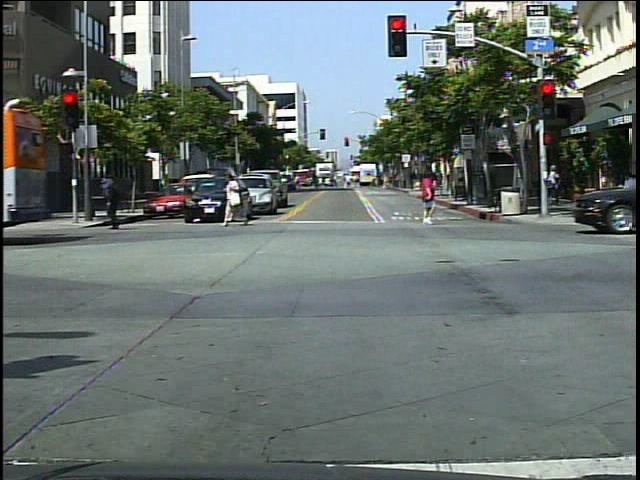person: (221, 166, 252, 230), (413, 166, 442, 231), (102, 169, 129, 233), (545, 160, 567, 211)
